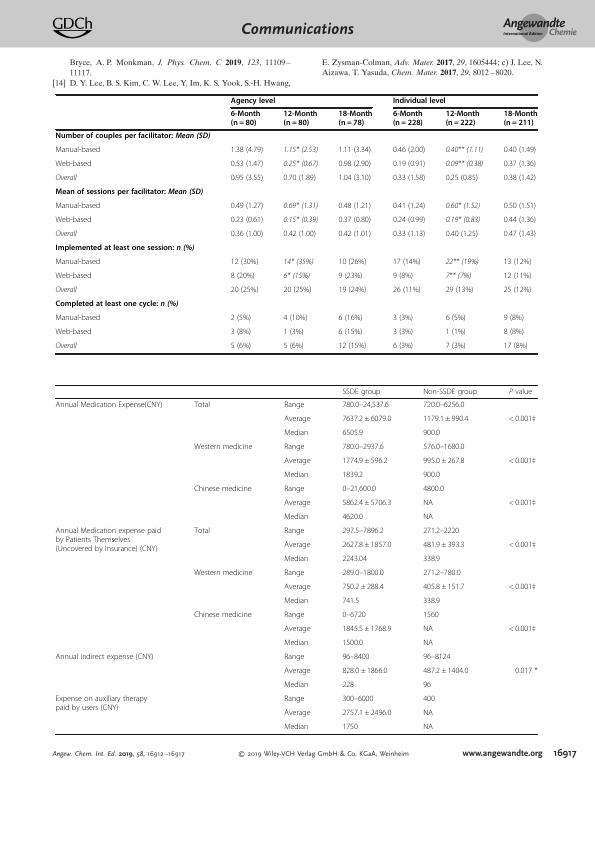borderless: (54, 383, 538, 734), (54, 93, 537, 353)
cell: (55, 526, 162, 554), (55, 694, 148, 713), (55, 132, 211, 142), (55, 188, 204, 198), (55, 244, 195, 254), (55, 300, 179, 310), (55, 400, 163, 410), (55, 652, 154, 662), (283, 110, 318, 129), (338, 110, 373, 129), (445, 110, 480, 129), (503, 110, 538, 129), (392, 110, 424, 129), (193, 442, 253, 452), (193, 568, 253, 578), (193, 484, 252, 494), (193, 610, 252, 620), (230, 110, 261, 129), (341, 414, 392, 424), (341, 498, 392, 508), (341, 540, 392, 550), (341, 624, 392, 634), (341, 708, 392, 718), (422, 387, 478, 396), (392, 97, 447, 106), (341, 400, 390, 410), (422, 414, 469, 424), (341, 456, 388, 466), (341, 666, 388, 676), (422, 666, 469, 676), (341, 582, 385, 592), (422, 400, 465, 410), (341, 442, 384, 452), (422, 442, 465, 452), (422, 456, 465, 466), (341, 526, 384, 536), (422, 540, 465, 550), (341, 568, 384, 578), (422, 582, 465, 592), (230, 97, 276, 106), (55, 146, 101, 155), (55, 202, 101, 211), (55, 258, 101, 267), (55, 314, 101, 323), (422, 568, 461, 578), (422, 526, 460, 536), (341, 387, 381, 396), (341, 484, 377, 494), (445, 146, 484, 155), (445, 160, 484, 169), (55, 160, 92, 169), (55, 216, 92, 225), (55, 272, 92, 281), (55, 328, 92, 337), (341, 694, 374, 704), (283, 146, 319, 155), (283, 160, 319, 169), (283, 202, 319, 211), (445, 202, 481, 211), (283, 216, 319, 225), (445, 216, 481, 225), (445, 258, 480, 267), (230, 146, 264, 155), (338, 146, 372, 155), (392, 146, 426, 155), (503, 146, 537, 155), (230, 160, 264, 169), (338, 160, 372, 169), (392, 160, 426, 169), (503, 160, 537, 169), (230, 174, 264, 183), (283, 174, 317, 183), (338, 174, 372, 183), (392, 174, 426, 183), (445, 174, 479, 183), (503, 174, 537, 183), (230, 202, 264, 211), (338, 202, 372, 211), (392, 202, 426, 211), (503, 202, 537, 211), (230, 216, 264, 225), (338, 216, 372, 225), (392, 216, 426, 225), (503, 216, 537, 225), (230, 230, 264, 239), (283, 230, 317, 239), (338, 230, 372, 239), (392, 230, 426, 239), (445, 230, 479, 239), (503, 230, 537, 239), (508, 414, 537, 424), (508, 456, 537, 466), (508, 498, 537, 508), (508, 540, 537, 550), (508, 582, 537, 592), (508, 624, 537, 634), (341, 652, 370, 662), (422, 652, 451, 662), (283, 414, 311, 424), (283, 456, 311, 466), (283, 498, 311, 508), (283, 540, 311, 550), (283, 582, 311, 592), (283, 624, 311, 634), (283, 666, 311, 676), (283, 708, 311, 718), (283, 258, 314, 267), (341, 554, 368, 564), (392, 258, 422, 267), (392, 286, 422, 295), (230, 258, 259, 267), (338, 258, 367, 267), (503, 258, 532, 267), (503, 272, 532, 281), (230, 286, 259, 295), (283, 286, 312, 295), (338, 286, 367, 295), (445, 286, 474, 295), (503, 286, 532, 295), (338, 342, 367, 351), (283, 428, 309, 438), (283, 470, 309, 480), (283, 512, 309, 522), (283, 554, 309, 564), (283, 596, 309, 606), (341, 610, 367, 620), (283, 638, 309, 648), (283, 680, 309, 690), (283, 722, 309, 732), (283, 272, 311, 281), (445, 272, 472, 281), (514, 666, 538, 676), (230, 272, 256, 281), (503, 342, 529, 351), (341, 428, 364, 438), (341, 470, 364, 480), (422, 484, 445, 494), (341, 512, 364, 522), (341, 638, 364, 648), (508, 387, 533, 396), (338, 272, 363, 281), (283, 314, 308, 323), (338, 314, 363, 323), (338, 328, 363, 337), (283, 400, 305, 410), (283, 442, 305, 452), (283, 484, 305, 494), (283, 526, 305, 536), (283, 568, 305, 578), (283, 610, 305, 620), (283, 652, 305, 662), (283, 694, 305, 704), (55, 174, 78, 183), (55, 230, 78, 239), (55, 286, 78, 295), (55, 342, 78, 351), (392, 272, 414, 281), (230, 314, 252, 323), (392, 314, 414, 323), (445, 314, 467, 323), (503, 314, 525, 323), (230, 328, 252, 337), (283, 328, 305, 337), (392, 328, 414, 337), (445, 328, 467, 337), (503, 328, 525, 337), (230, 342, 252, 351), (283, 342, 305, 351), (392, 342, 414, 351), (445, 342, 467, 351), (422, 428, 441, 438), (422, 470, 441, 480), (422, 554, 441, 564), (341, 596, 360, 606), (422, 596, 441, 606), (193, 400, 211, 410), (193, 526, 211, 536), (422, 610, 440, 620), (341, 722, 359, 732), (341, 680, 355, 690), (422, 694, 436, 704), (422, 498, 434, 508), (422, 512, 434, 522), (422, 624, 434, 634), (422, 638, 434, 648), (422, 708, 434, 718), (422, 722, 434, 732), (422, 680, 432, 690)
